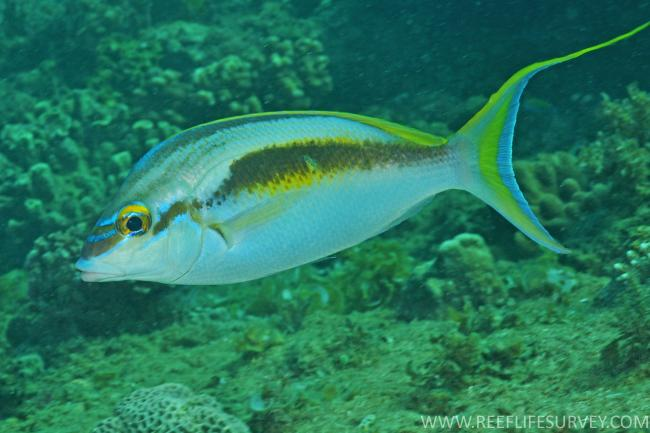fish: (76, 23, 650, 286)
